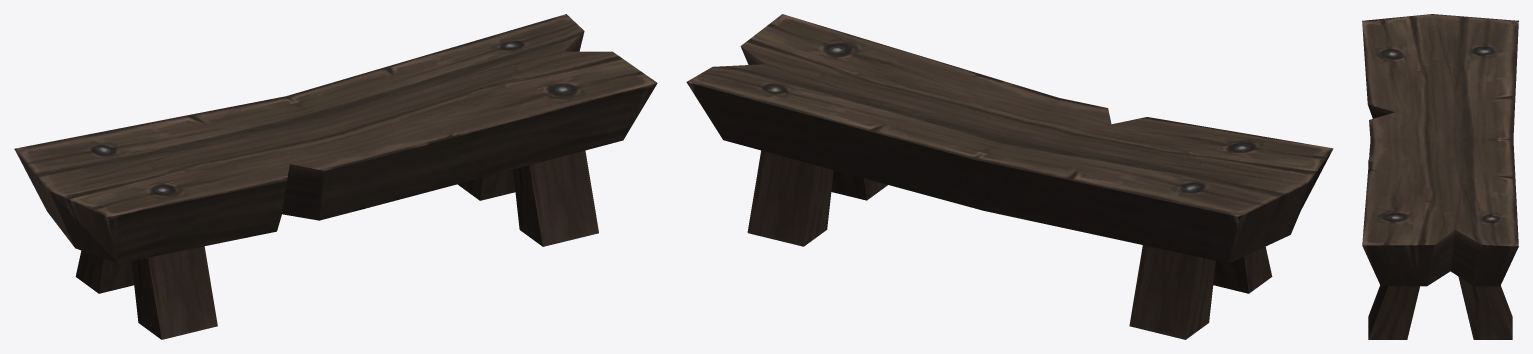
Rendered from bandit_bench_01.fbx.
3 views of the same model, side by side, from view 1: azimuth 30°, elevation 25°; view 2: azimuth 150°, elevation 25°; view 3: azimuth 270°, elevation 25° (orthographic). The views are drawn at different scales.
Visible parts, largest first — view 1: obj0.580; view 2: obj0.580; view 3: obj0.580.
Boxes of the visible parts, bbox=[...] form: obj0.580: bbox=[14, 14, 657, 339]; obj0.580: bbox=[686, 14, 1333, 339]; obj0.580: bbox=[1362, 14, 1518, 339].
Bounding box in the file's own units: 3.21 × 0.7525 × 0.9151.
